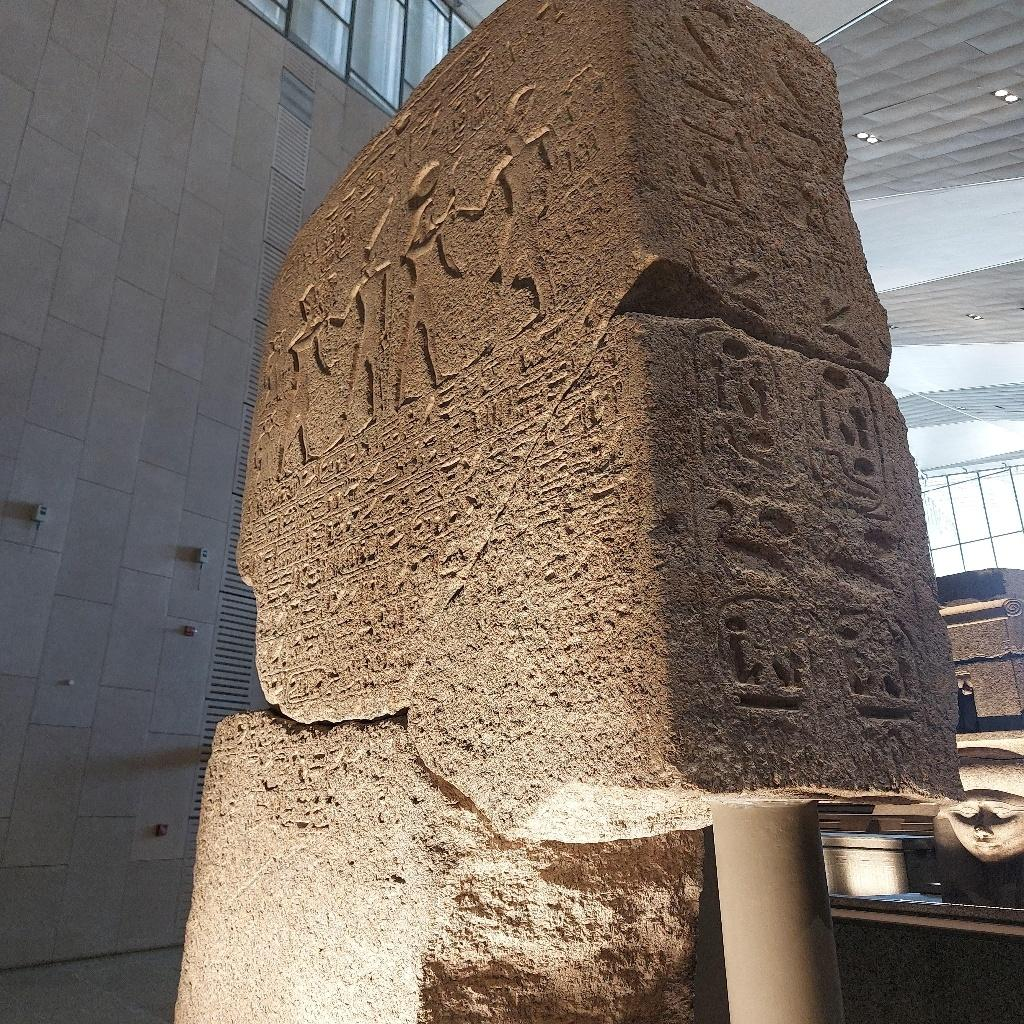Rhetorical Stela of King Ramesses ll: (169, 2, 969, 1022)
